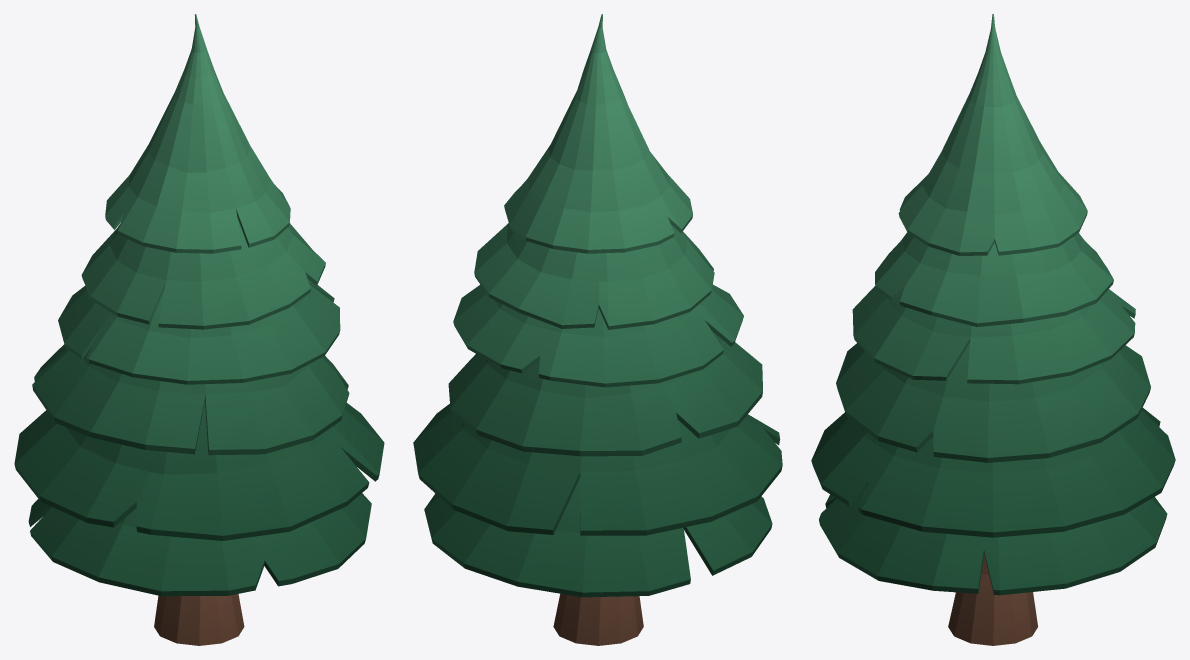
File: drzewo2.fbx
The picture shows the model from 3 angles, left to right: view 1: azimuth 30°, elevation 25°; view 2: azimuth 150°, elevation 25°; view 3: azimuth 270°, elevation 25°; orthographic projection.
Visible parts, largest first — view 1: Circle.051; view 2: Circle.051; view 3: Circle.051.
Part boxes in pixels (bbox=[...]): Circle.051: bbox=[14, 14, 384, 645]; Circle.051: bbox=[413, 14, 782, 645]; Circle.051: bbox=[811, 14, 1175, 645].
Size of the model in its own units: 317 by 577 by 312.
